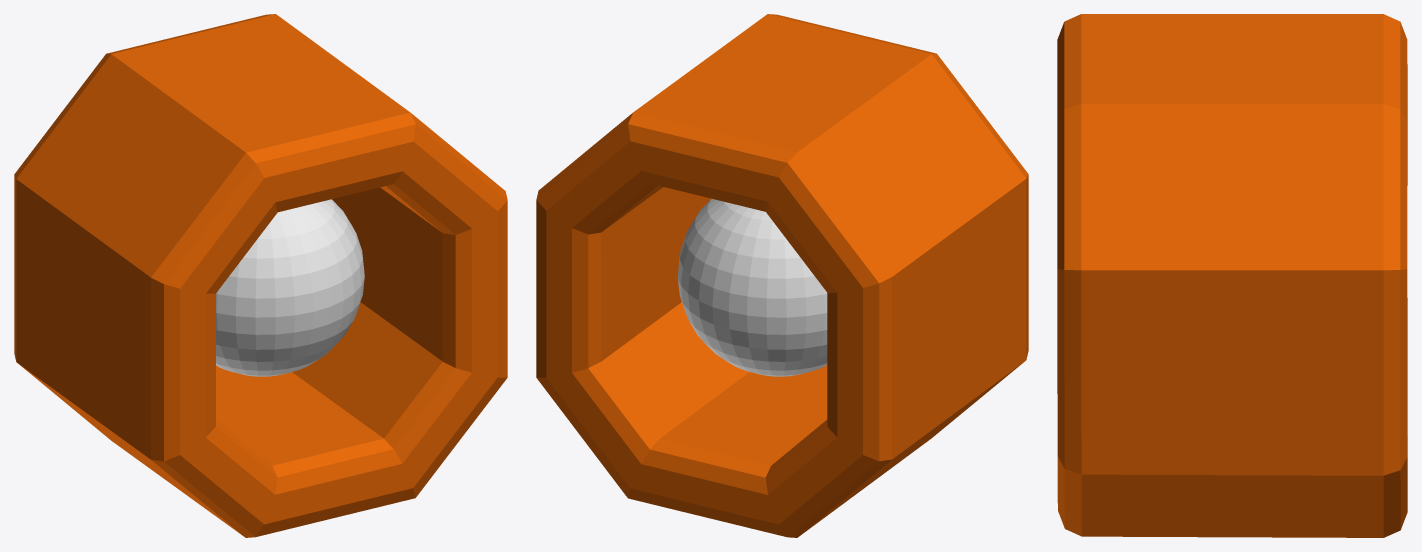
File: PistolAmmo.fbx
3 views of the same model, side by side, from view 1: azimuth 30°, elevation 25°; view 2: azimuth 150°, elevation 25°; view 3: azimuth 270°, elevation 25° (orthographic). The views are drawn at different scales.
Parts seen in each view (by area): view 1: Ammo; view 2: Ammo; view 3: Ammo.
Part boxes in pixels (x1,y1,x2,y2): Ammo: [14, 14, 507, 537]; Ammo: [536, 14, 1028, 537]; Ammo: [1057, 14, 1407, 537].
Bounding box in the file's own units: 6.24 × 6.5 × 4.76.
